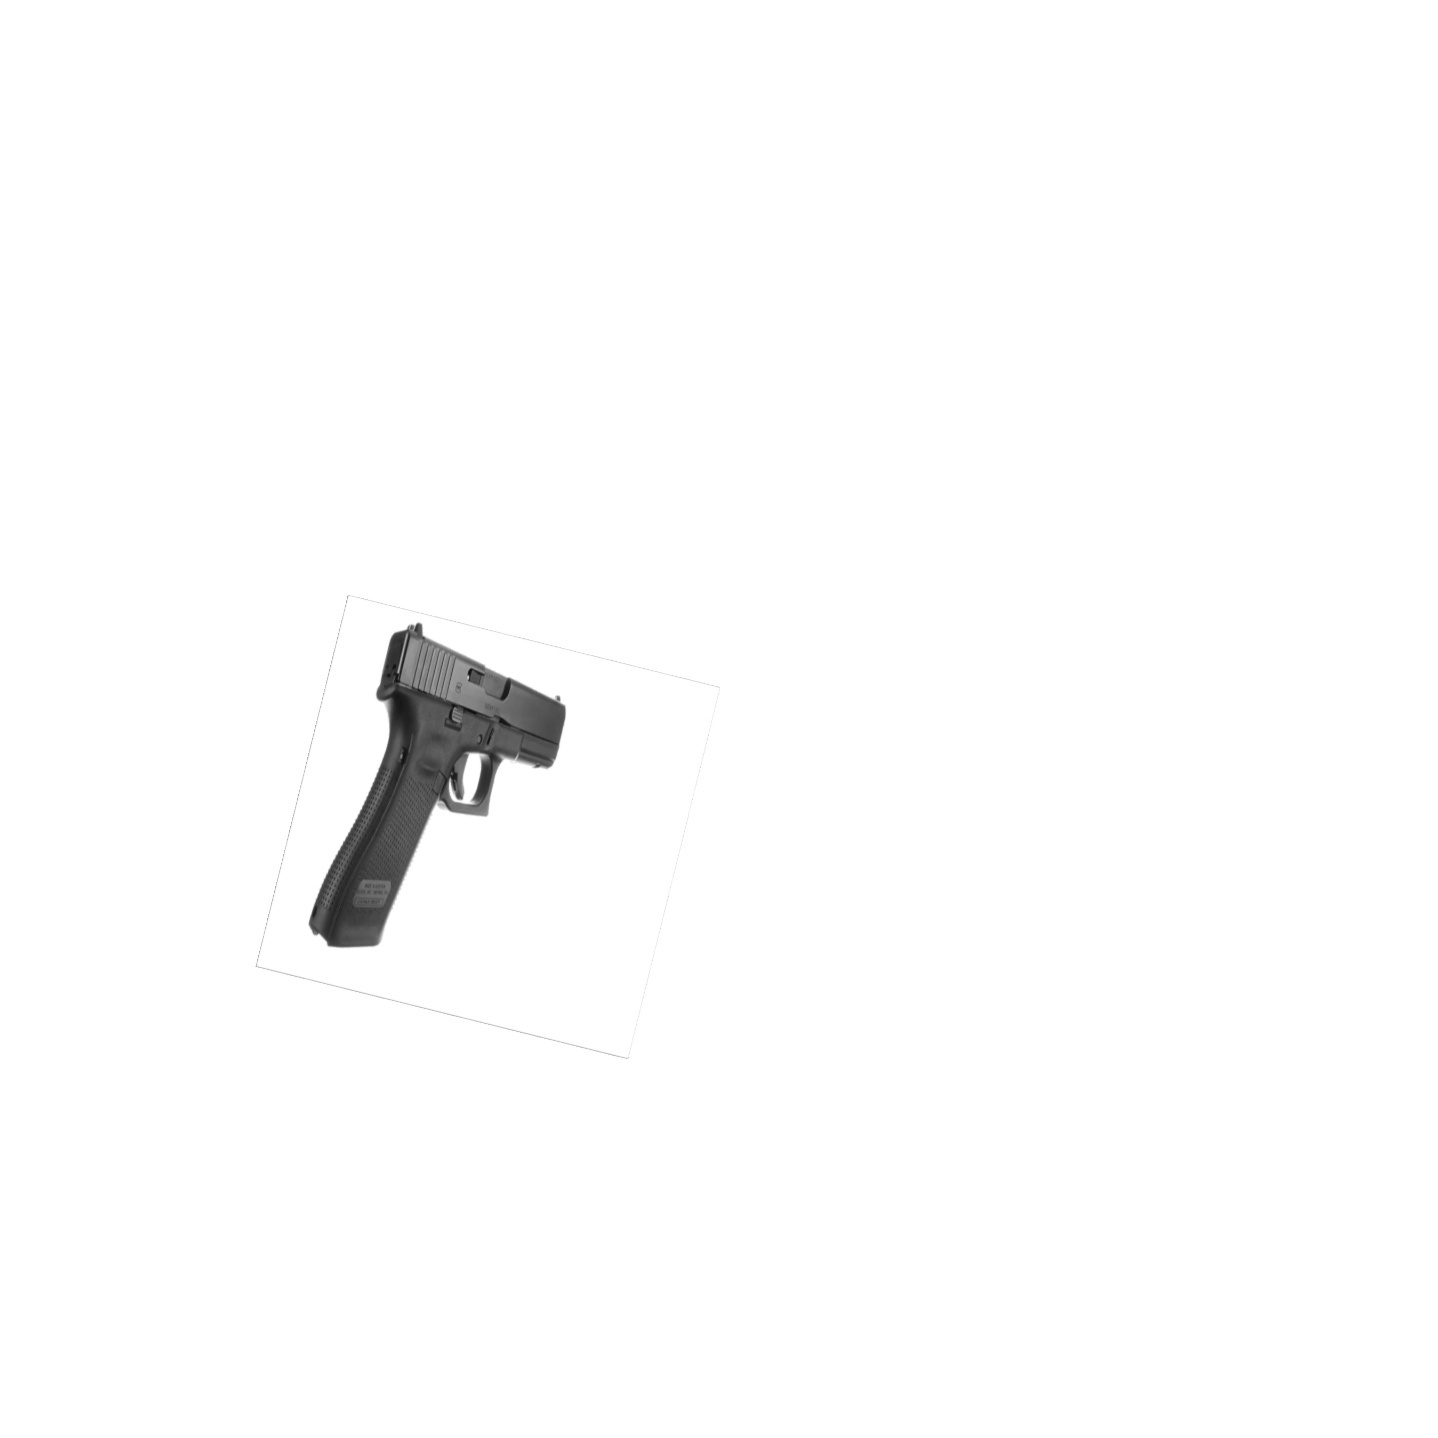gun: (307, 619, 570, 953)
